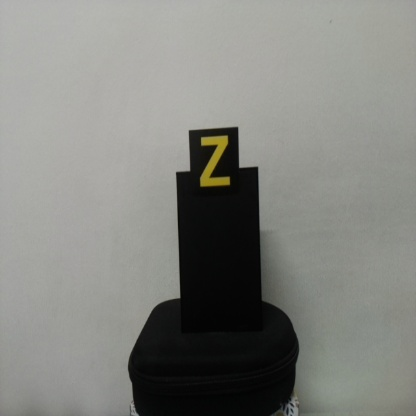id_15: (189, 129, 239, 198)
